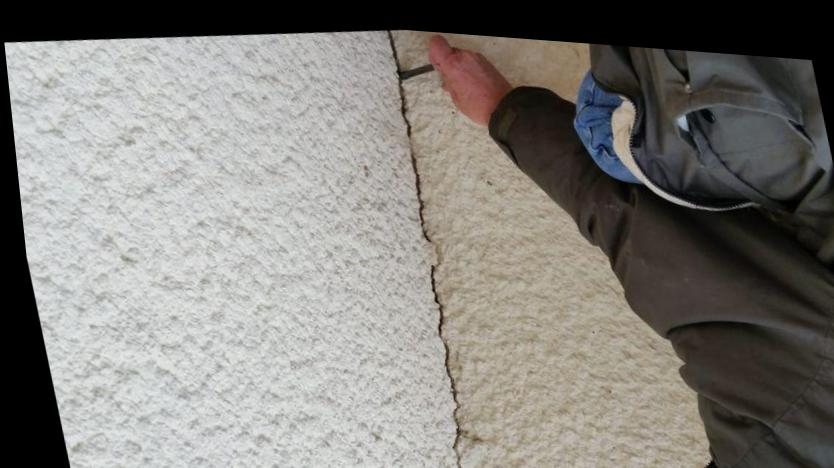crack: (387, 24, 454, 468)
